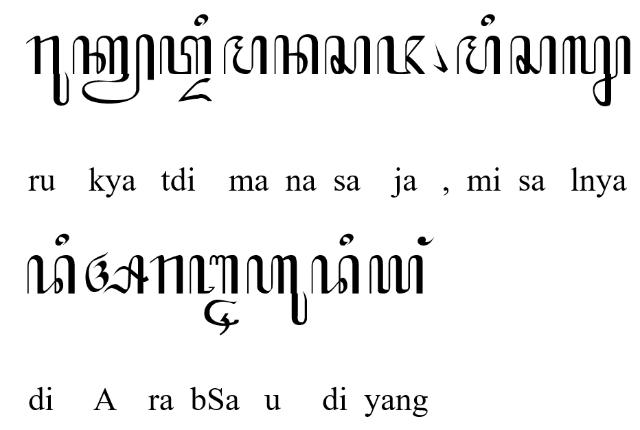A: (85, 252, 149, 295)
_T: (203, 298, 240, 336)
_d: (176, 78, 212, 102)
b: (189, 254, 239, 294)
d: (26, 254, 76, 294), (310, 256, 362, 294)
hu: (246, 254, 308, 326)
i: (479, 12, 496, 28), (54, 233, 70, 247), (194, 13, 208, 27), (338, 234, 354, 246)
j: (378, 34, 427, 76)
kom: (432, 41, 448, 73)
ky: (72, 33, 154, 104)
ly: (562, 35, 630, 107)
m: (456, 34, 504, 76), (222, 34, 268, 76)
n: (274, 33, 318, 76)
ng: (417, 236, 435, 247)
r: (150, 255, 184, 295)
ru: (24, 35, 70, 105)
s: (509, 35, 556, 76), (324, 36, 371, 74)
t: (160, 35, 212, 76)
y: (368, 255, 424, 295)
